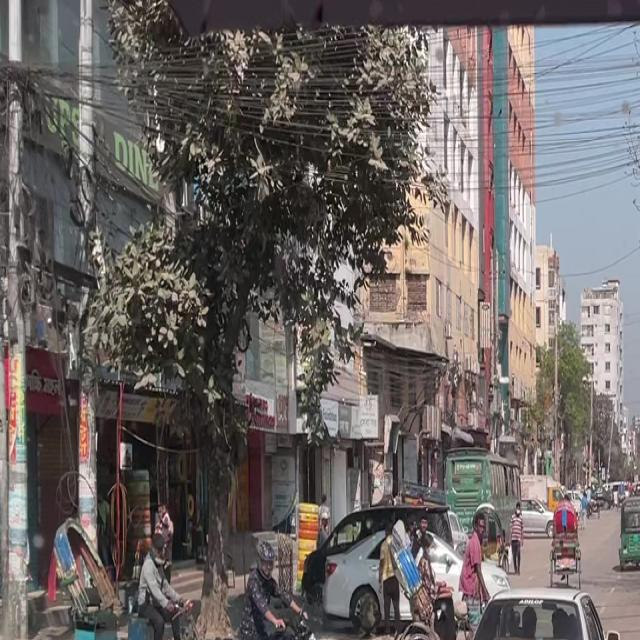car: (445, 579, 621, 640), (587, 592, 640, 640), (0, 616, 60, 640)
motorbike: (188, 568, 322, 640), (577, 476, 610, 522)
rickshaw: (612, 494, 640, 568)
